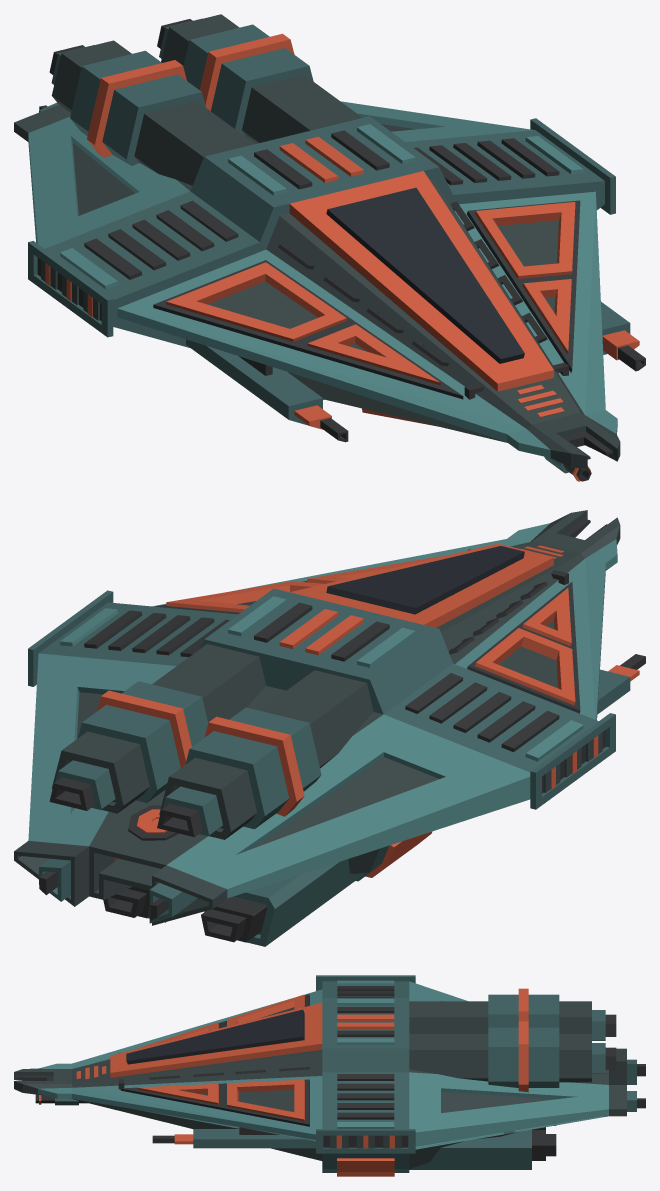
File: TP_Sci-fi08.fbx
3 renders of one model, top to bottom at view 1: azimuth 30°, elevation 25°; view 2: azimuth 150°, elevation 25°; view 3: azimuth 270°, elevation 25°, orthographic. The views are drawn at different scales.
Visible parts, largest first — view 1: TP_Sci_fi08; view 2: TP_Sci_fi08; view 3: TP_Sci_fi08.
Part boxes in pixels (x1,y1,x2,y2): TP_Sci_fi08: [14, 14, 645, 481]; TP_Sci_fi08: [14, 510, 645, 946]; TP_Sci_fi08: [14, 975, 645, 1176].
Size of the model in its own units: 221 by 91.48 by 380.
Materials: 1 (1 with a texture image).
